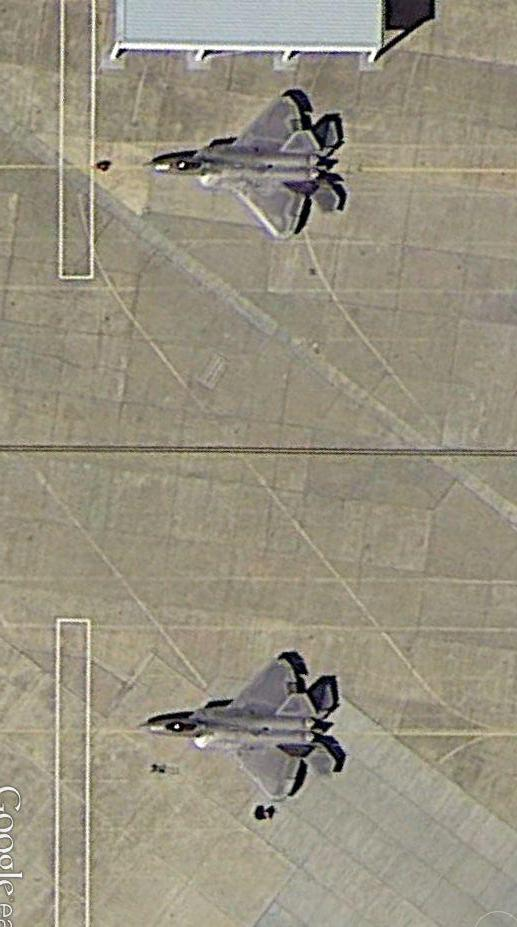F-22: (135, 656, 344, 804), (145, 92, 345, 245)
